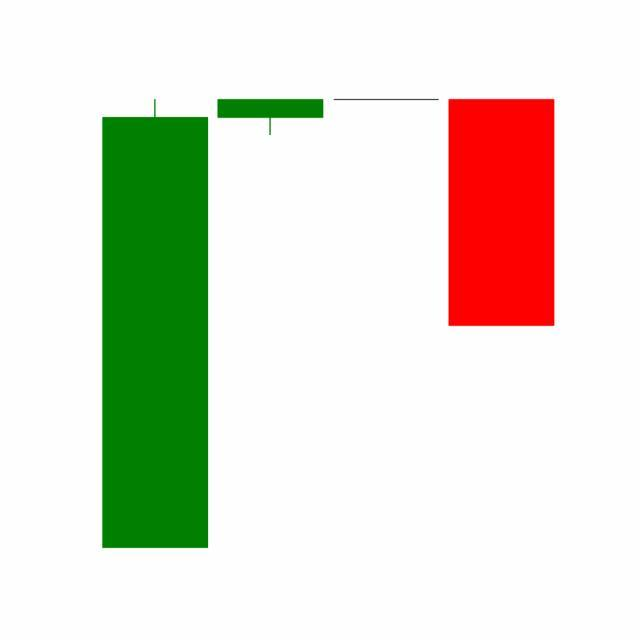Hammer: (329, 99, 445, 101)
